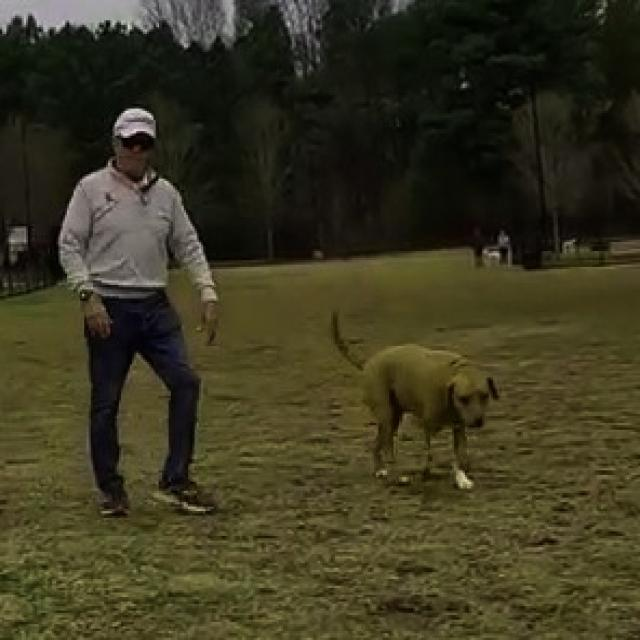Unleashed_Dog: (128, 285, 502, 491)
